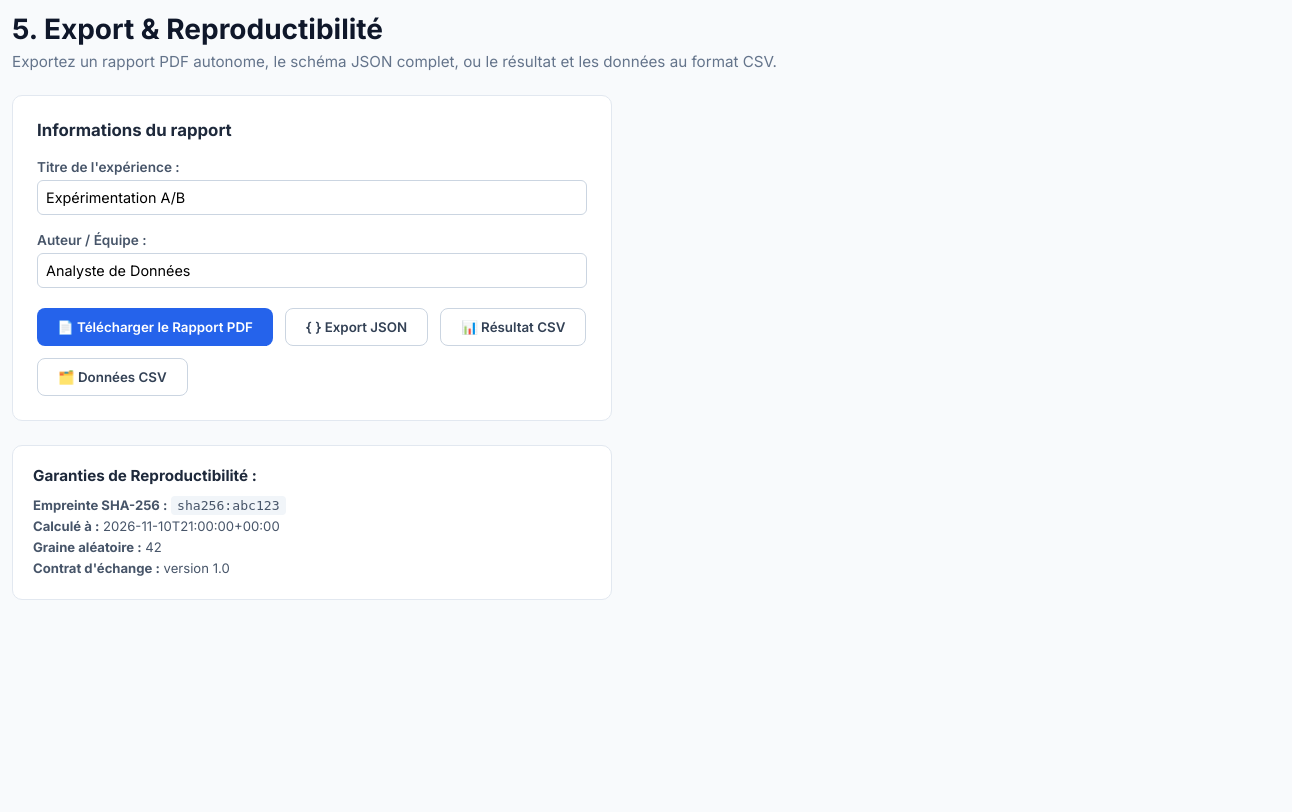
ExportPage › affiche l'erreur renvoyée par l'API
Click the button "📄 Télécharger le Rapport PDF": (155, 327) [37,308,273,346]
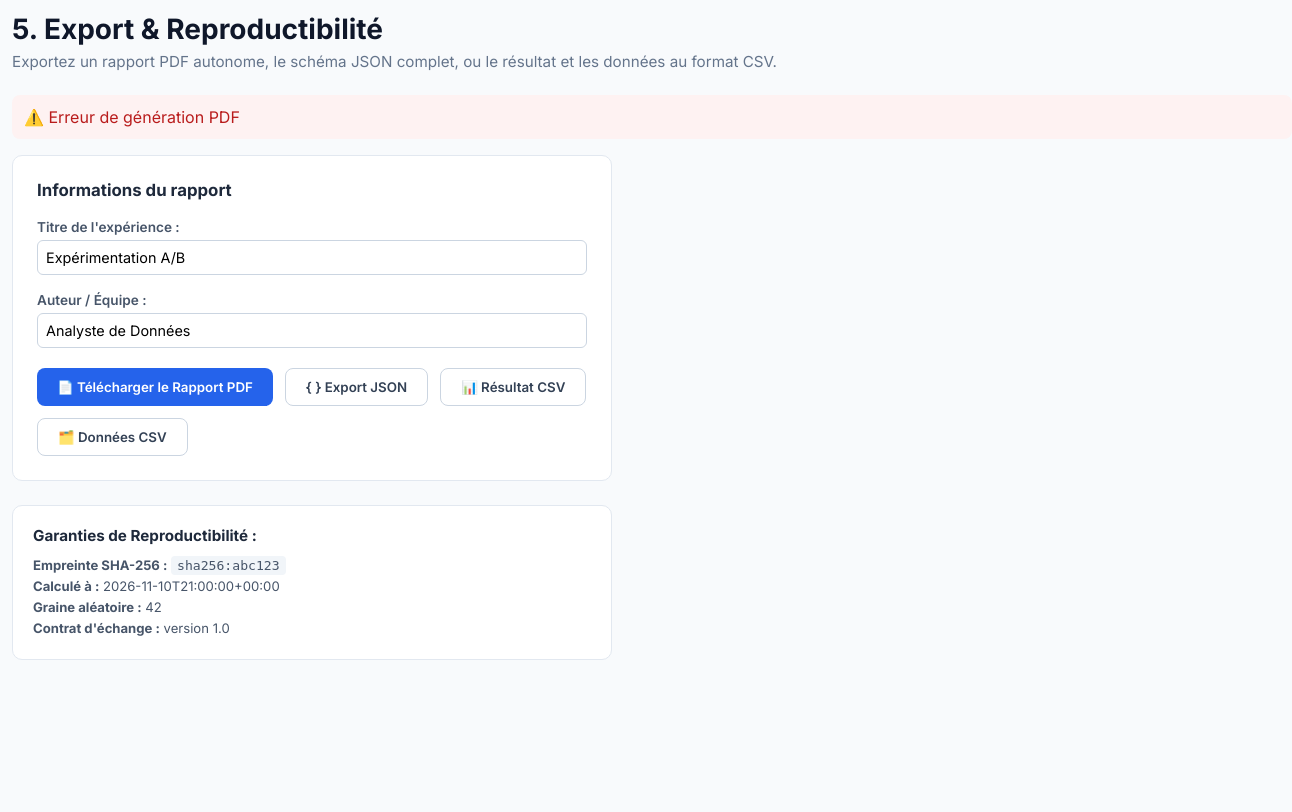
Result: the text "⚠️ Erreur de génération PDF" is shown at [12,95,1291,139]
